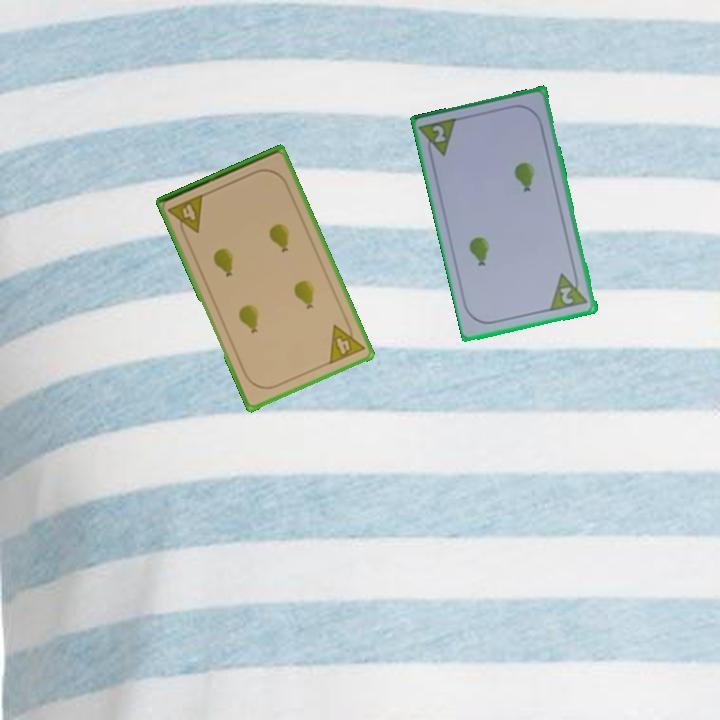2p: (417, 115, 461, 163), (547, 267, 591, 314)
4p: (325, 316, 367, 367), (165, 190, 207, 240)
